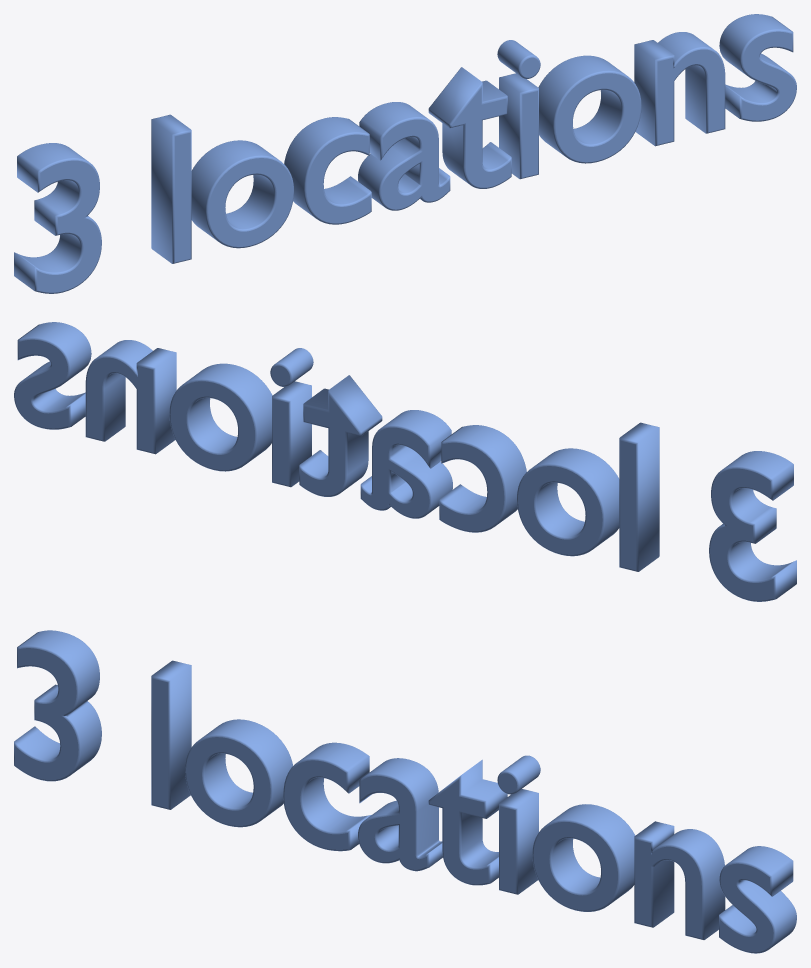
File: map1.glb
The picture shows the model from 3 angles, top to bottom: view 1: azimuth 30°, elevation 25°; view 2: azimuth 150°, elevation 25°; view 3: azimuth 330°, elevation 25°; orthographic projection.
Parts seen in each view (by area): view 1: Text; view 2: Text; view 3: Text.
Part boxes in pixels (<box>): Text: <box>14,14,796,293</box>; Text: <box>14,322,796,601</box>; Text: <box>14,630,796,953</box>.
Size of the model in its own units: 4.32 by 0.72 by 0.22.
